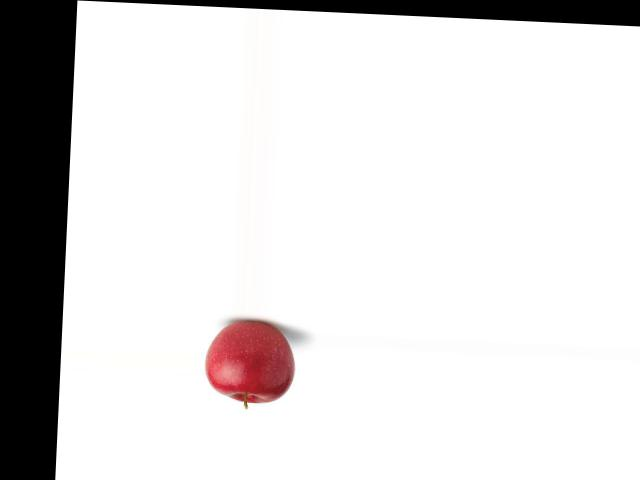apple: (202, 316, 299, 412)
